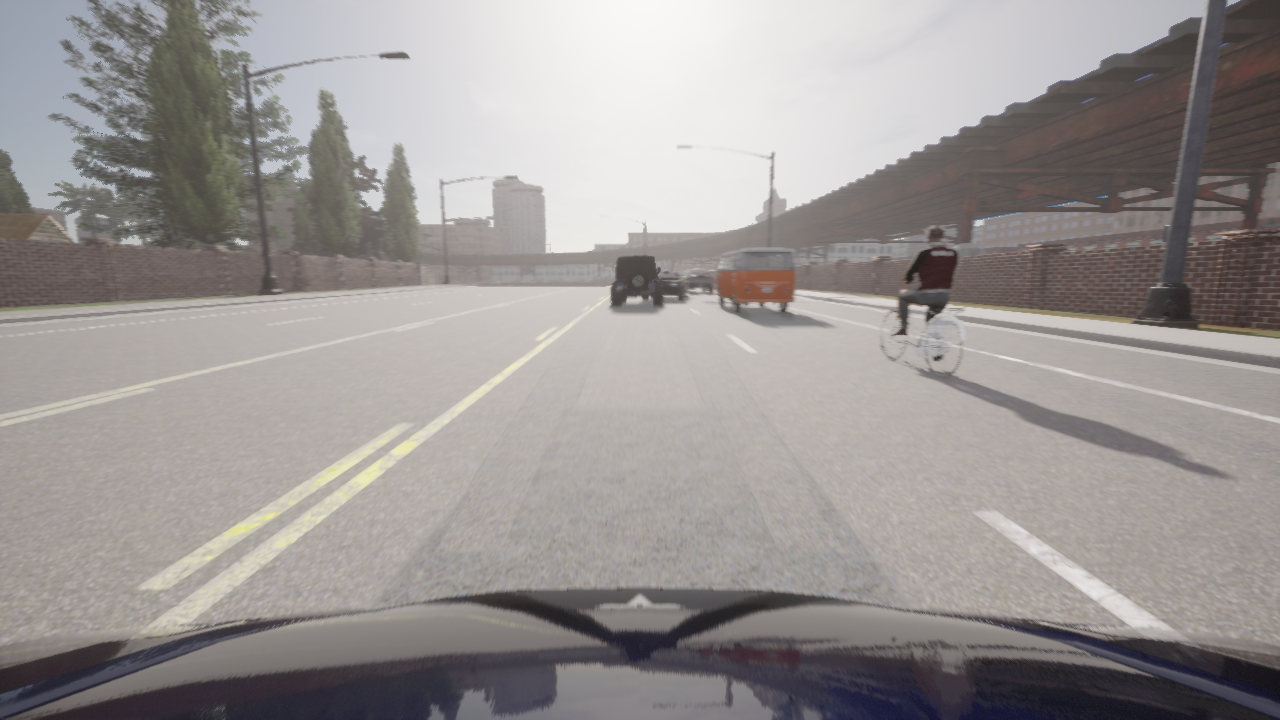cyclist: (0, 588, 1279, 719), (880, 279, 965, 377), (714, 248, 795, 312), (611, 255, 662, 305), (642, 271, 688, 299), (682, 268, 713, 292)
